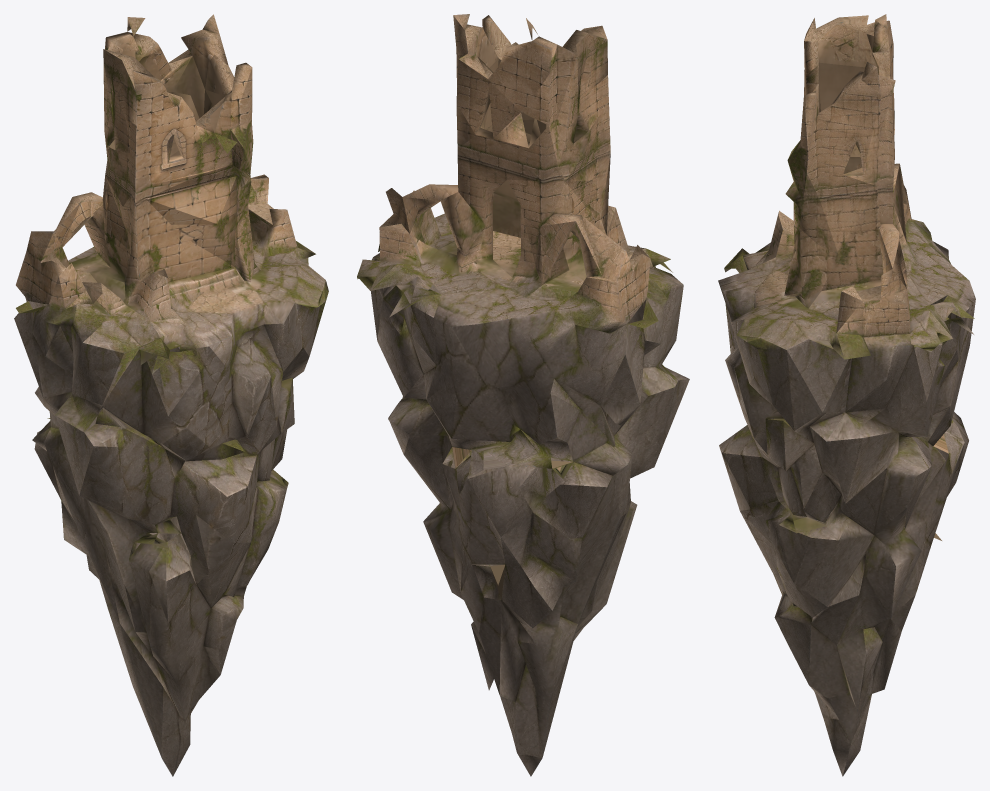
The model's file is SM_FloatingRuinSpire.fbx.
The picture shows the model from 3 angles, left to right: view 1: azimuth 30°, elevation 25°; view 2: azimuth 150°, elevation 25°; view 3: azimuth 270°, elevation 25°; orthographic projection. The views are drawn at different scales.
Parts seen in each view (by area): view 1: Mesh_0; view 2: Mesh_0; view 3: Mesh_0.
Boxes of the visible parts, left/top/right/bottom form: Mesh_0: left=14, top=14, right=328, bottom=776; Mesh_0: left=357, top=14, right=689, bottom=776; Mesh_0: left=718, top=14, right=975, bottom=776.
Bounding box in the file's own units: 74.98 × 190 × 58.99.
Materials: 1 (1 with a texture image).
